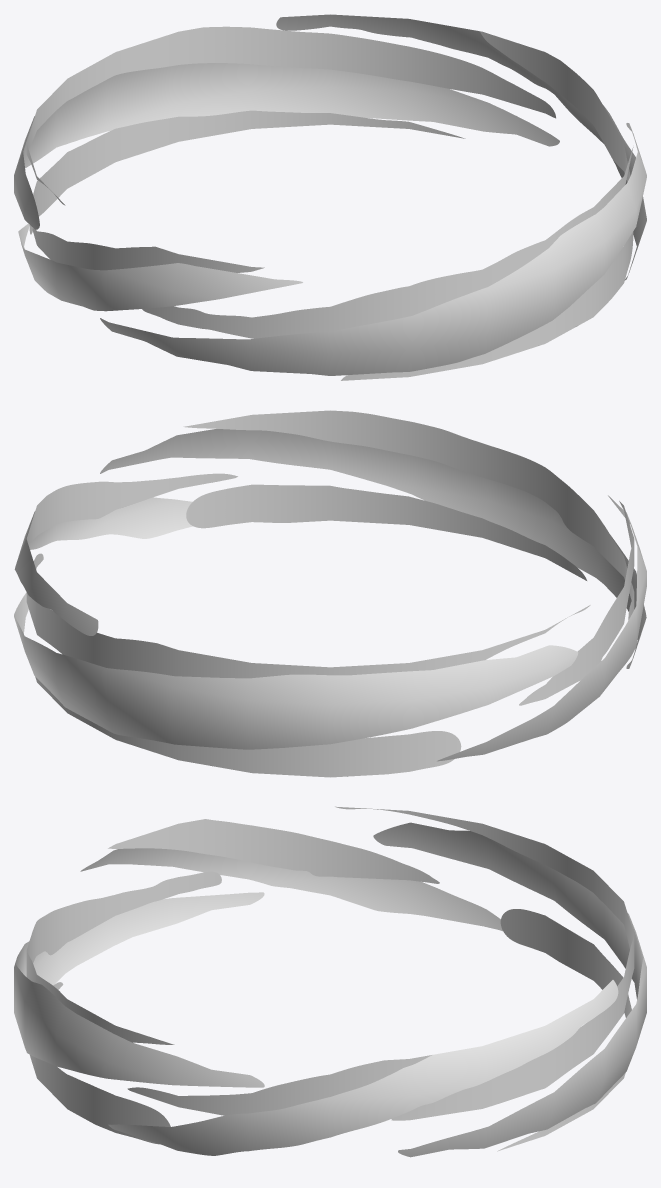
File: StrikeCircleEffect.fbx
3 renders of one model, top to bottom at view 1: azimuth 30°, elevation 25°; view 2: azimuth 150°, elevation 25°; view 3: azimuth 270°, elevation 25°, orthographic.
Visible parts, largest first — view 1: StrikeCircle; view 2: StrikeCircle; view 3: StrikeCircle.
Boxes of the visible parts, bbox=[...] form: StrikeCircle: bbox=[14, 14, 646, 380]; StrikeCircle: bbox=[14, 410, 646, 777]; StrikeCircle: bbox=[14, 806, 646, 1157].
Size of the model in its own units: 208 by 40 by 208.
